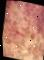plaque psoriasis: (0, 0, 44, 60), (1, 15, 21, 45), (2, 44, 31, 60), (3, 0, 11, 11)
